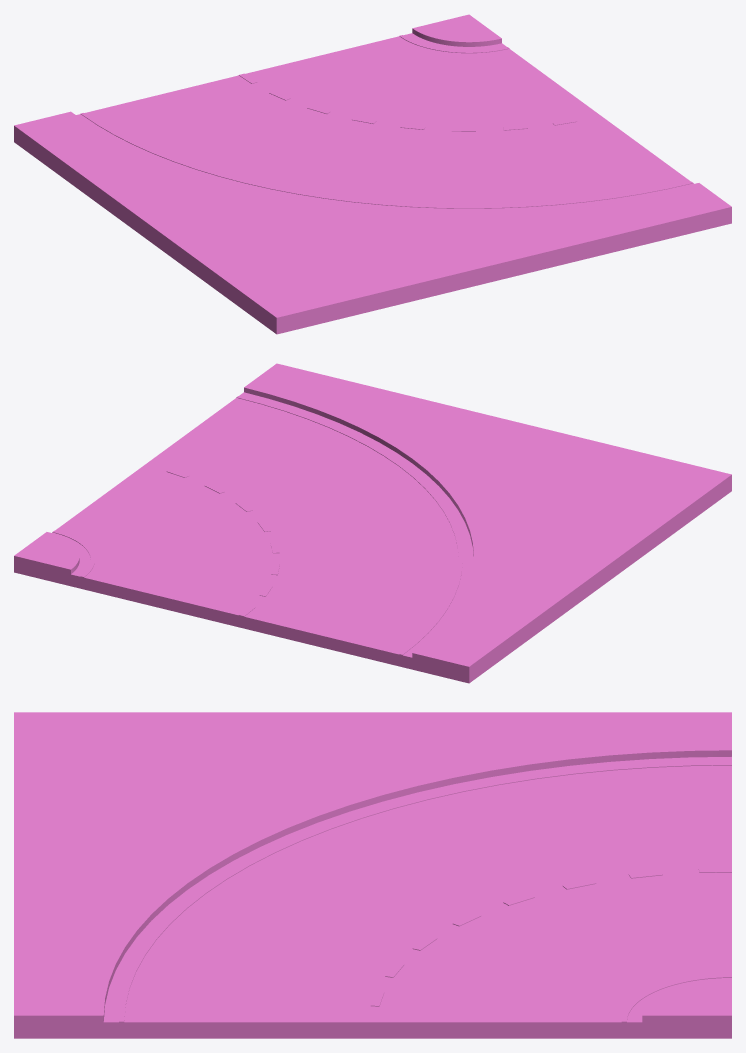
File: Road_Corner.fbx
3 views of the same model, one above another, from view 1: azimuth 30°, elevation 25°; view 2: azimuth 150°, elevation 25°; view 3: azimuth 270°, elevation 25° (orthographic). The views are drawn at different scales.
Parts seen in each view (by area): view 1: Tile; view 2: Tile; view 3: Tile.
Boxes of the visible parts, left/top/right/bottom form: Tile: left=14, top=14, right=731, bottom=334; Tile: left=14, top=363, right=731, bottom=683; Tile: left=14, top=712, right=731, bottom=1038.
Size of the model in its own units: 40 by 1.4 by 40.
1 material, 1 textured.
